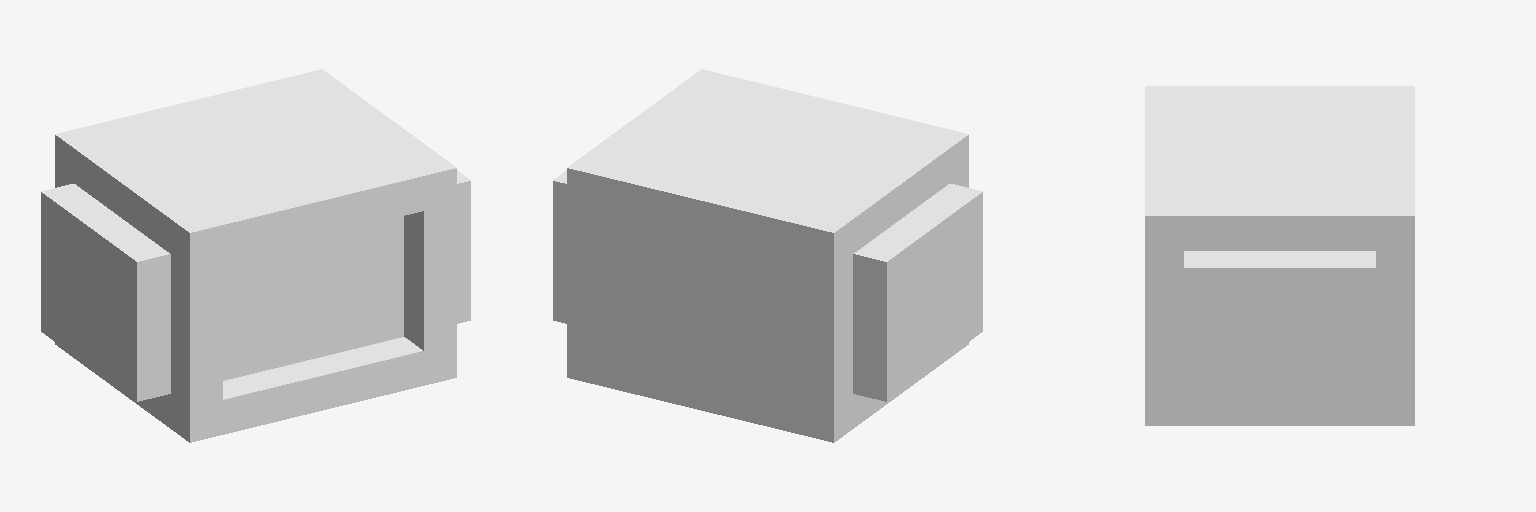
Rendered from robot-2.obj.
3 views of the same model, side by side, from view 1: azimuth 30°, elevation 25°; view 2: azimuth 150°, elevation 25°; view 3: azimuth 270°, elevation 25° (orthographic).
Parts seen in each view (by area): view 1: object 1; view 2: object 1; view 3: object 1.
Part boxes in pixels (x1,y1,x2,y2): object 1: (41, 69, 470, 442); object 1: (553, 69, 982, 442); object 1: (1145, 86, 1414, 425).
Bounding box in the file's own units: 1 × 0.6 × 0.7.